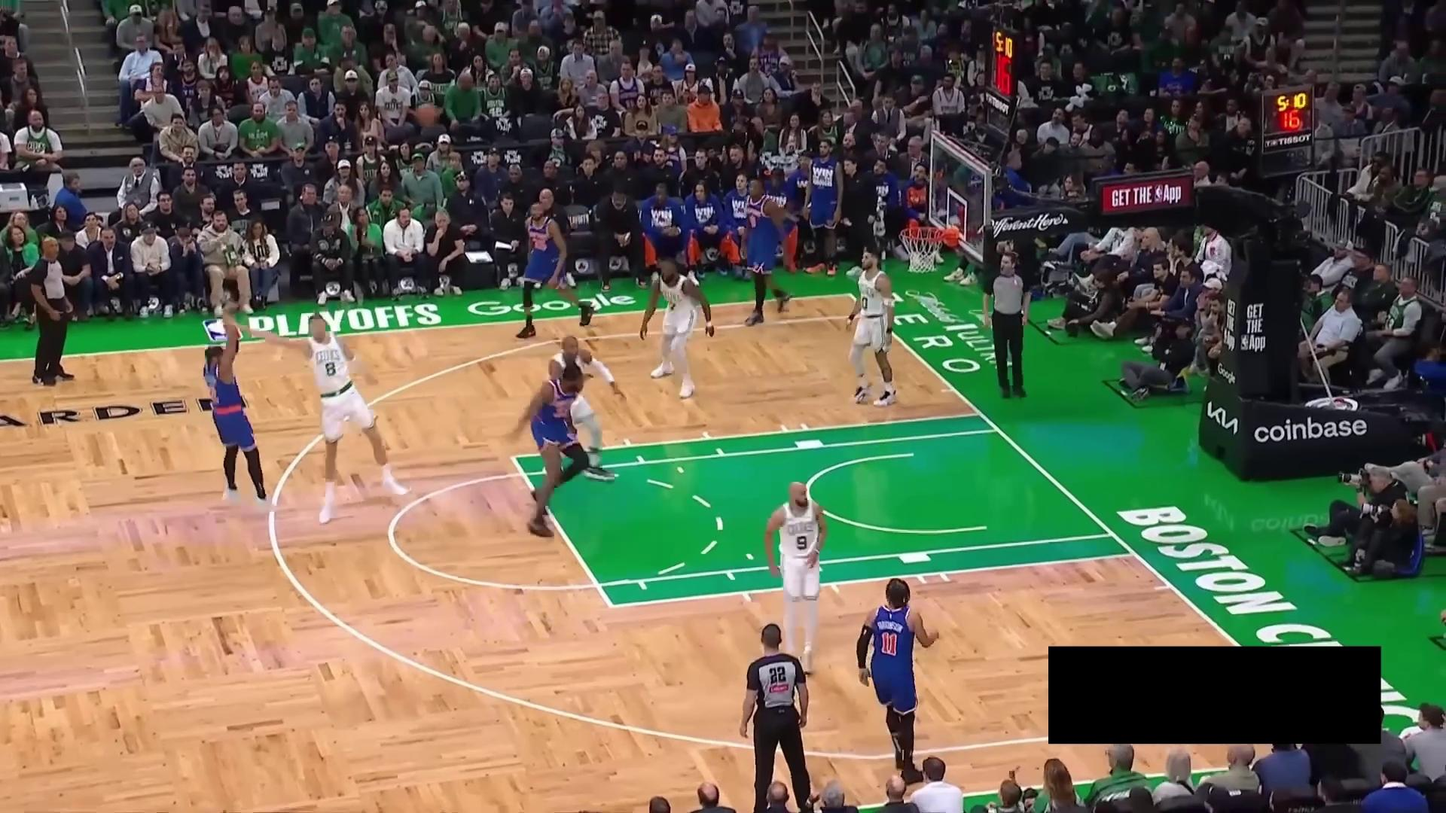ball: (415, 102, 438, 126)
number: (880, 630, 898, 657), (795, 534, 809, 551), (531, 237, 548, 250), (324, 361, 337, 377), (860, 295, 870, 312), (669, 301, 677, 311)
player: (229, 312, 411, 525), (855, 577, 941, 786), (203, 300, 279, 518), (508, 361, 594, 539), (763, 479, 829, 679), (540, 334, 627, 483), (514, 200, 596, 340), (639, 257, 715, 400), (845, 243, 898, 407), (740, 177, 795, 327)
player-jump-shot: (203, 300, 279, 518)
referee: (740, 622, 814, 813), (29, 236, 85, 386), (981, 249, 1033, 399)
rim: (898, 225, 946, 242)
